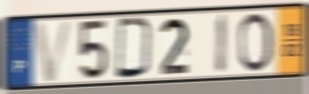2: (160, 16, 190, 77)
5: (78, 18, 110, 81)
D: (114, 17, 155, 81)
I: (214, 12, 229, 76)
O: (237, 11, 275, 74)
V: (32, 18, 76, 85)
